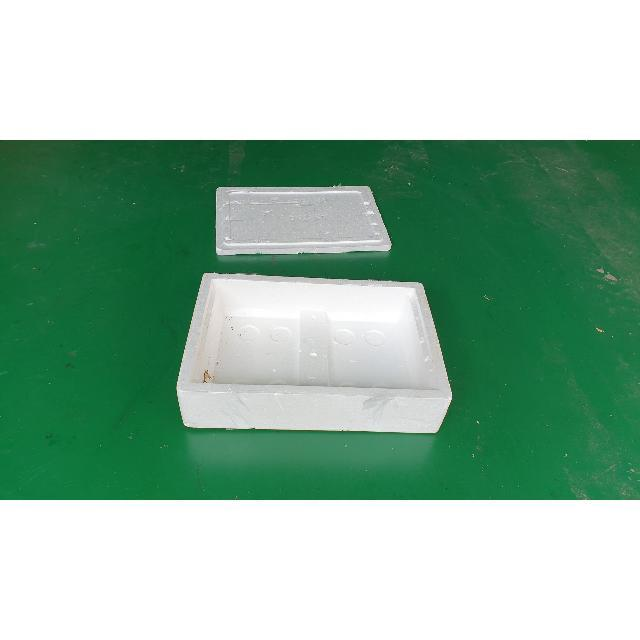Recipiente plastico: (178, 274, 451, 432)
